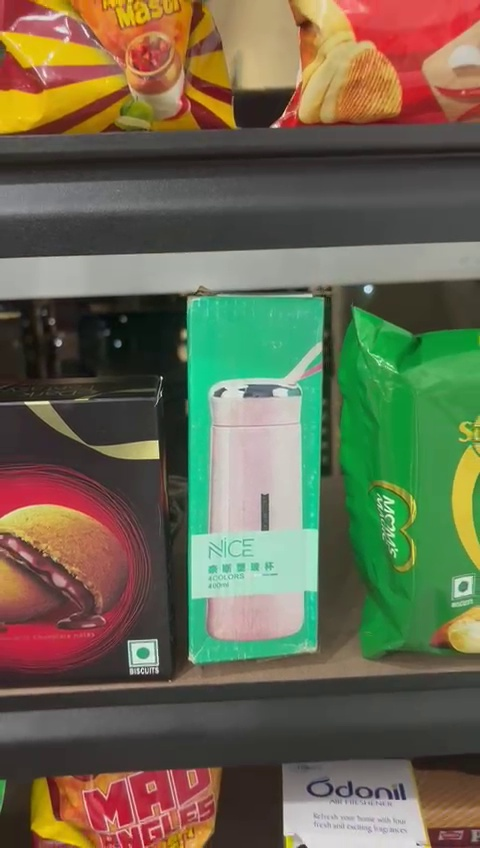Bottle: (188, 296, 316, 666)
